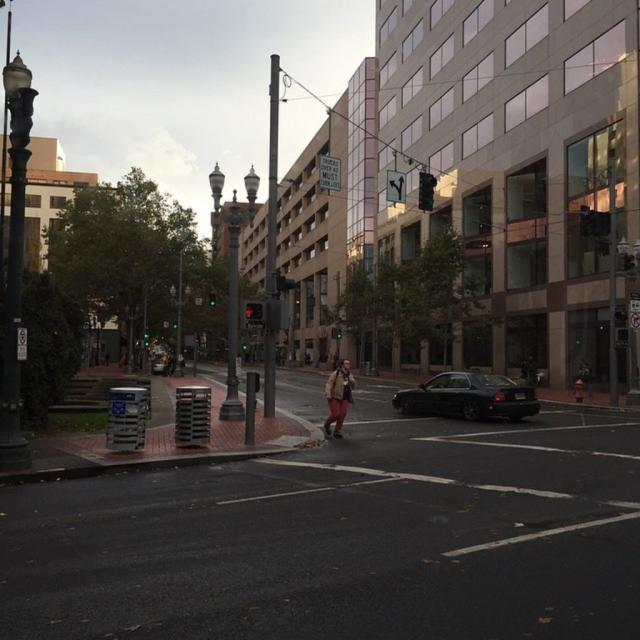off traffic light: (417, 171, 438, 209)
